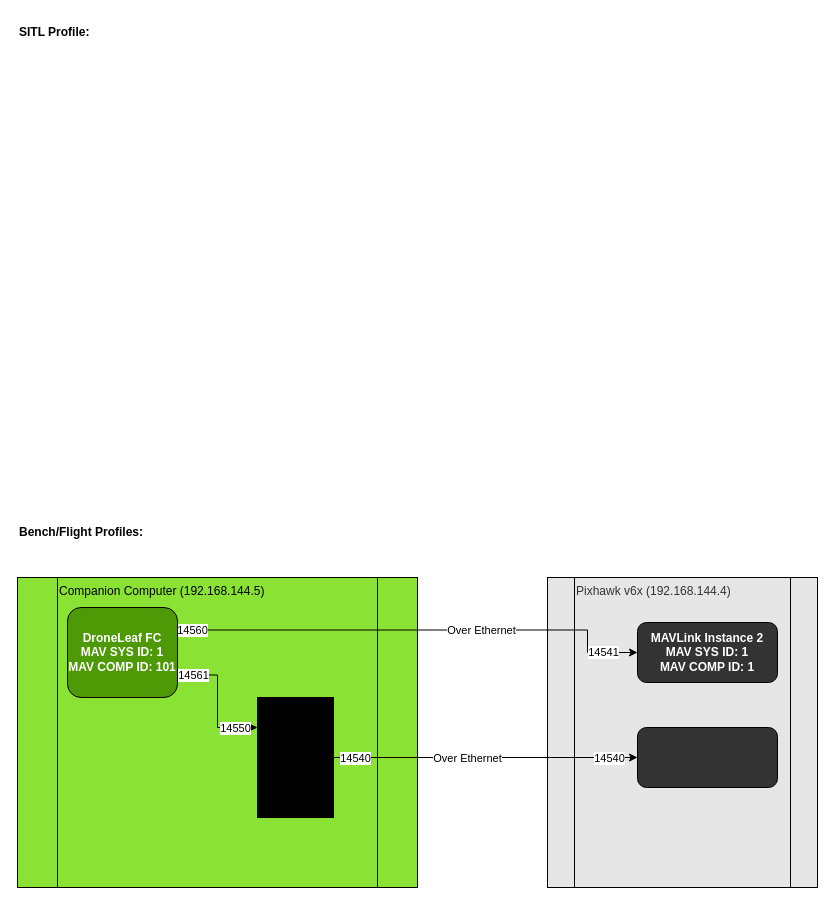
Image size: 835x905. Some labels were removed from this diagram. Here are the shapes that lost their labels. From the top down, the centre of each, then its label:
At pixel 295 757: "MAVLink Router".
At pixel 707 757: "MAVLink Instance 0 MAV SYS ID: 1 MAV COMP ID: 1".
